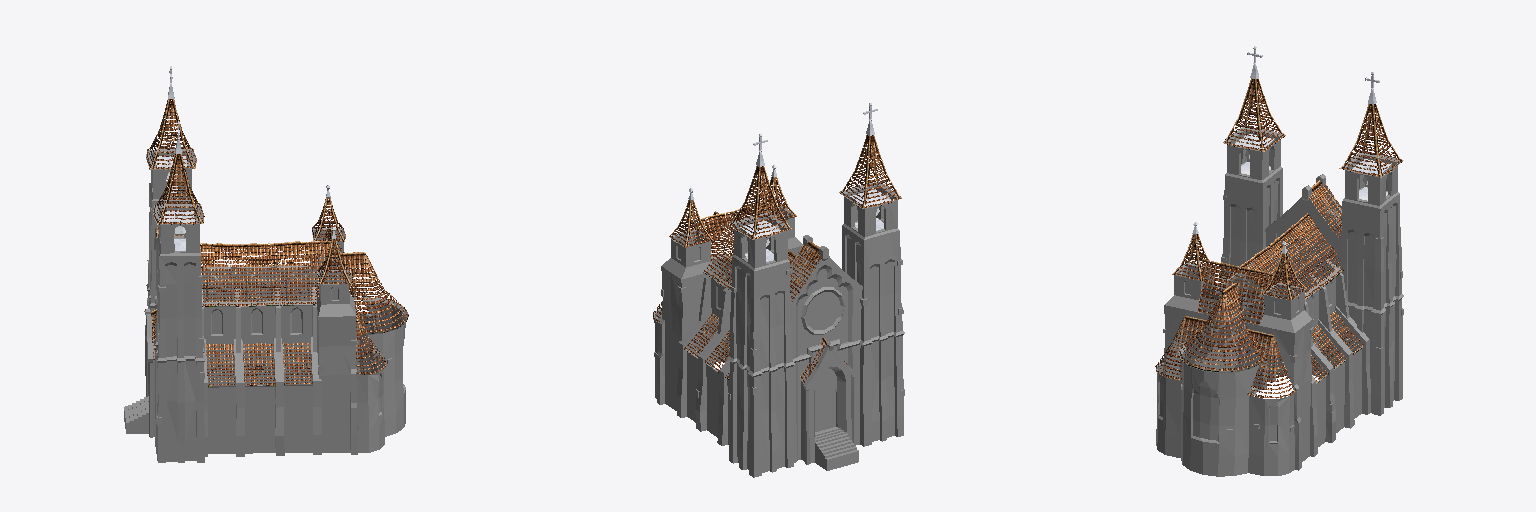
The picture shows the model from 3 angles: view 1: azimuth 30°, elevation 25°; view 2: azimuth 150°, elevation 25°; view 3: azimuth 270°, elevation 25°; orthographic projection.
Parts seen in each view (by area): view 1: DrawCall_1, DrawCall_4, DrawCall_5, DrawCall_3; view 2: DrawCall_1, DrawCall_4, DrawCall_5, DrawCall_3; view 3: DrawCall_1, DrawCall_4, DrawCall_5, DrawCall_3.
Part boxes in pixels (bbox=[...]): DrawCall_1: bbox=[124, 149, 408, 462]; DrawCall_4: bbox=[146, 99, 408, 386]; DrawCall_5: bbox=[208, 277, 380, 414]; DrawCall_3: bbox=[156, 66, 335, 250]; DrawCall_1: bbox=[653, 181, 904, 477]; DrawCall_4: bbox=[653, 135, 901, 383]; DrawCall_5: bbox=[657, 285, 840, 396]; DrawCall_3: bbox=[688, 103, 890, 261]; DrawCall_1: bbox=[1156, 127, 1403, 476]; DrawCall_4: bbox=[1155, 78, 1403, 398]; DrawCall_5: bbox=[1159, 282, 1356, 440]; DrawCall_3: bbox=[1192, 46, 1390, 253].
Bounding box in the file's own units: 1773 × 2365 × 1614.
Materials: 4 (2 with a texture image).